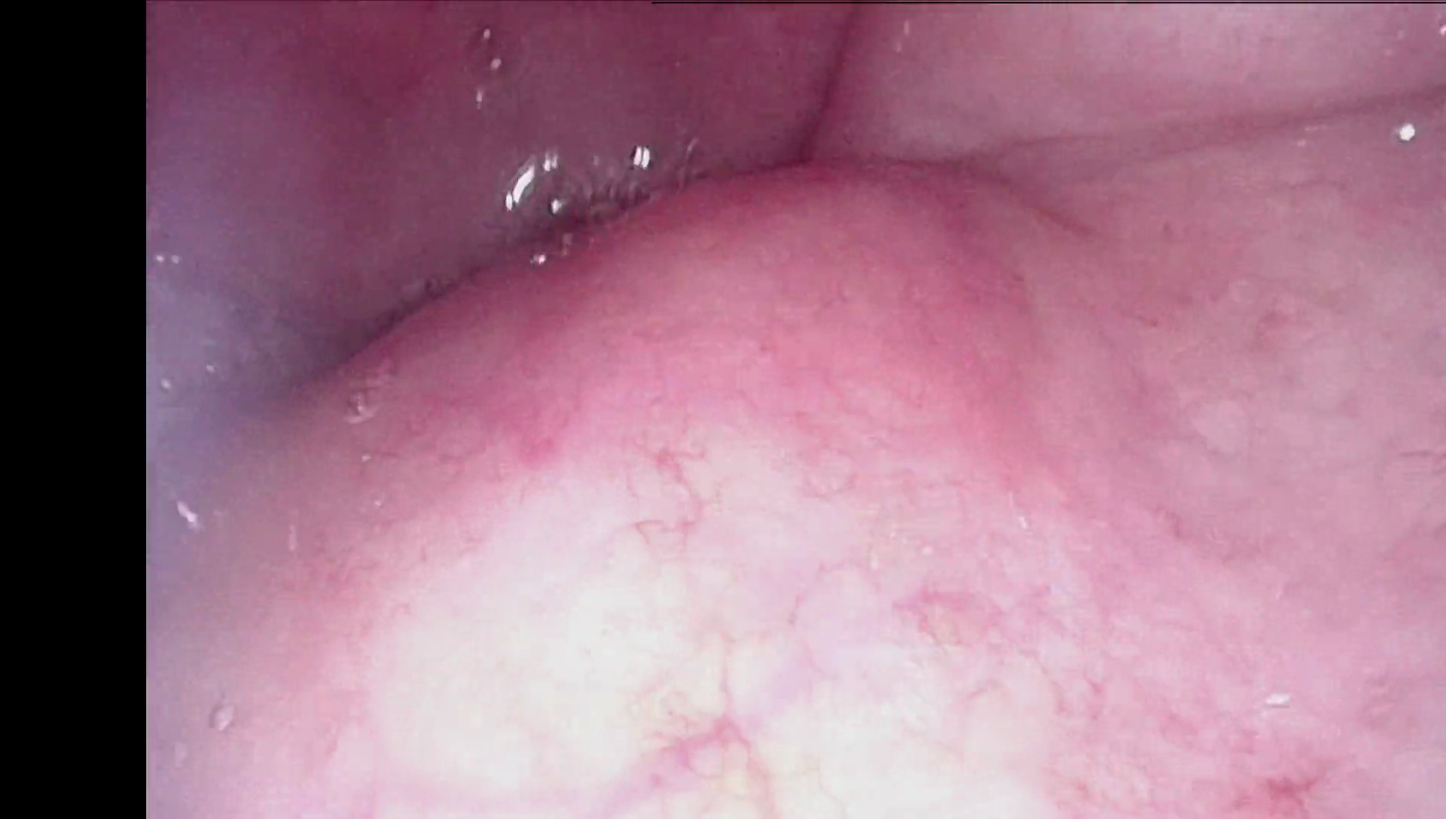close_wall: (320, 379, 1166, 819)
